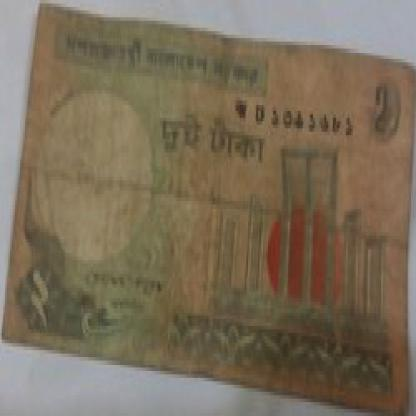two taka: (25, 260, 62, 333), (368, 80, 392, 159)
